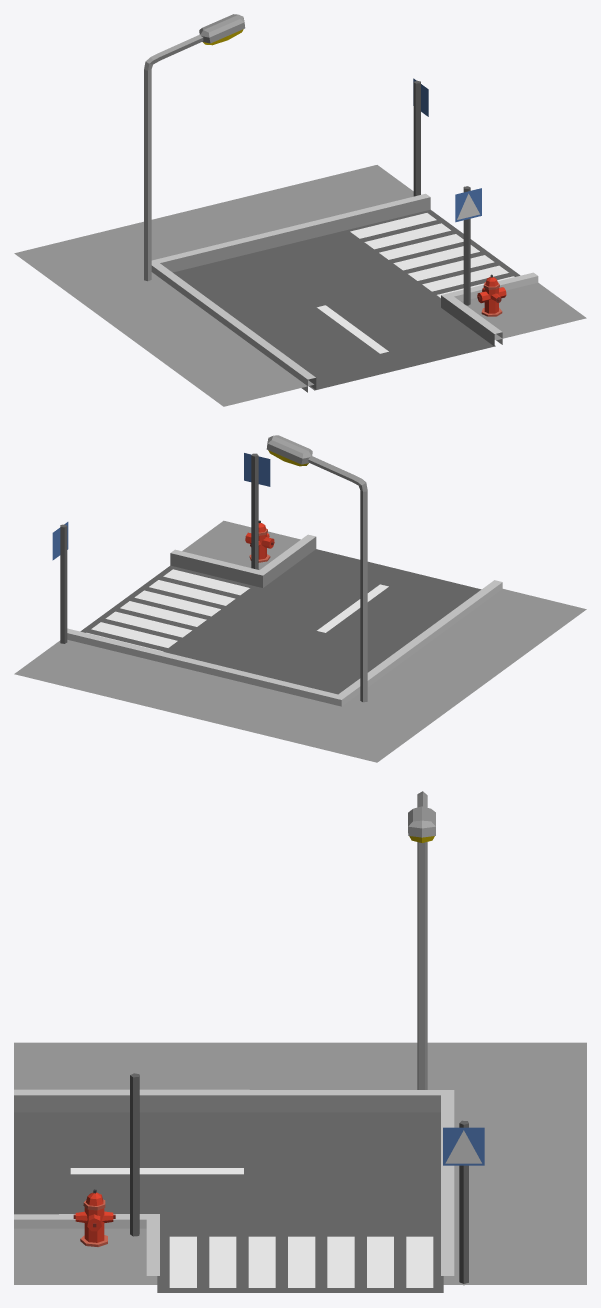
Rendered from Road_Tile_5.fbx.
The picture shows the model from 3 angles, top to bottom: view 1: azimuth 30°, elevation 25°; view 2: azimuth 150°, elevation 25°; view 3: azimuth 270°, elevation 25°; orthographic projection. The views are drawn at different scales.
Parts seen in each view (by area): view 1: Road_5, Light_5, Sign_5_1, Sign_5_2, Hydrant_5; view 2: Road_5, Light_5, Sign_5_1, Sign_5_2, Hydrant_5; view 3: Road_5, Light_5, Sign_5_2, Sign_5_1, Hydrant_5.
Boxes of the visible parts, bbox=[...] form: Road_5: bbox=[14, 165, 586, 406]; Light_5: bbox=[144, 14, 245, 281]; Sign_5_1: bbox=[455, 186, 481, 305]; Sign_5_2: bbox=[413, 78, 428, 196]; Hydrant_5: bbox=[477, 274, 506, 316]; Road_5: bbox=[14, 520, 586, 762]; Light_5: bbox=[266, 435, 367, 702]; Sign_5_1: bbox=[244, 453, 270, 569]; Sign_5_2: bbox=[52, 522, 68, 643]; Hydrant_5: bbox=[245, 520, 274, 562]; Road_5: bbox=[14, 1042, 586, 1292]; Light_5: bbox=[408, 791, 435, 1089]; Sign_5_2: bbox=[443, 1120, 484, 1285]; Sign_5_1: bbox=[130, 1073, 139, 1236]; Hydrant_5: bbox=[73, 1189, 115, 1246].
Size of the model in its own units: 4 by 2.62 by 4.
